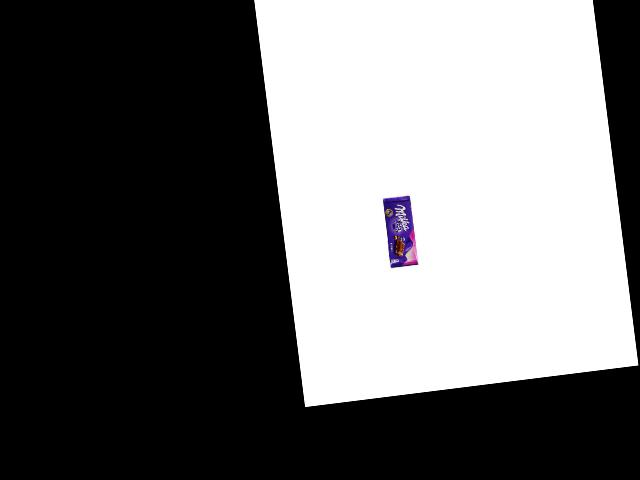chocolate: (381, 195, 418, 268)
